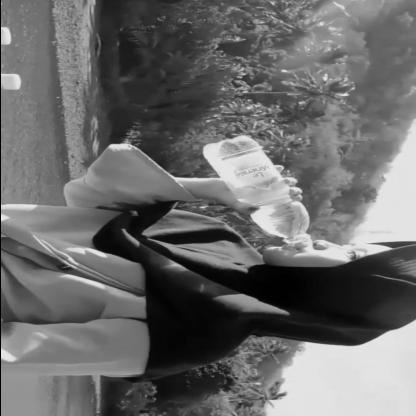plastic_bottles: (201, 132, 308, 248)
